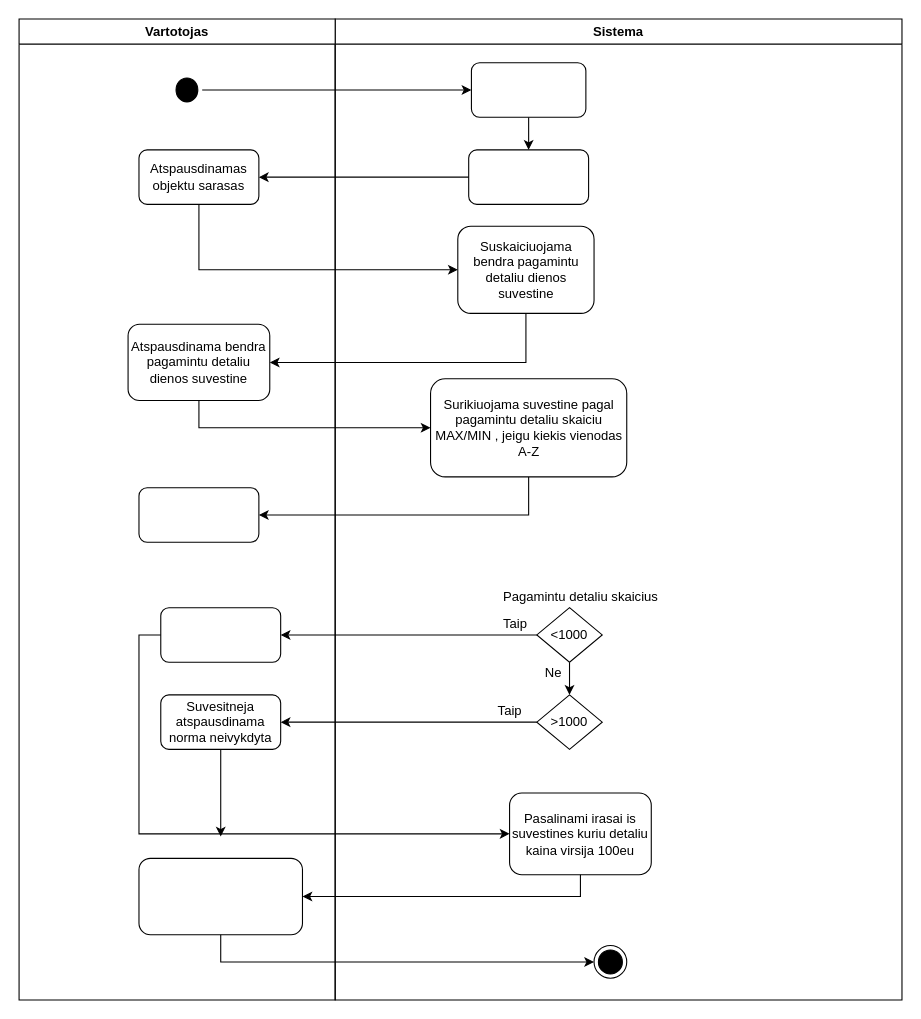
This 921x1019 diagram has some shape labels left out. The shapes that lost their labels are listed below. From the top down, each one's centre as x and y in pixels, then its label:
pixel 528 89: Sukuriami objektai
pixel 528 176: Objektai sudedami i sarasa
pixel 198 514: Atspausdinama surikiuota suvestine
pixel 220 634: Suvestineja atspausdinama norma ivykdyta
pixel 220 896: Atspausdinama suvestine pasalinus irasus kuriu kaina virsija 100 eu
